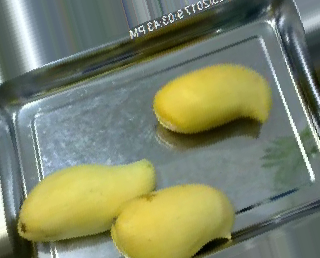Mango: (13, 154, 159, 245), (149, 61, 273, 142), (106, 182, 235, 256)
